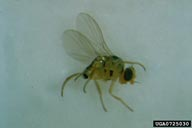Trifoli: (52, 10, 151, 117)
